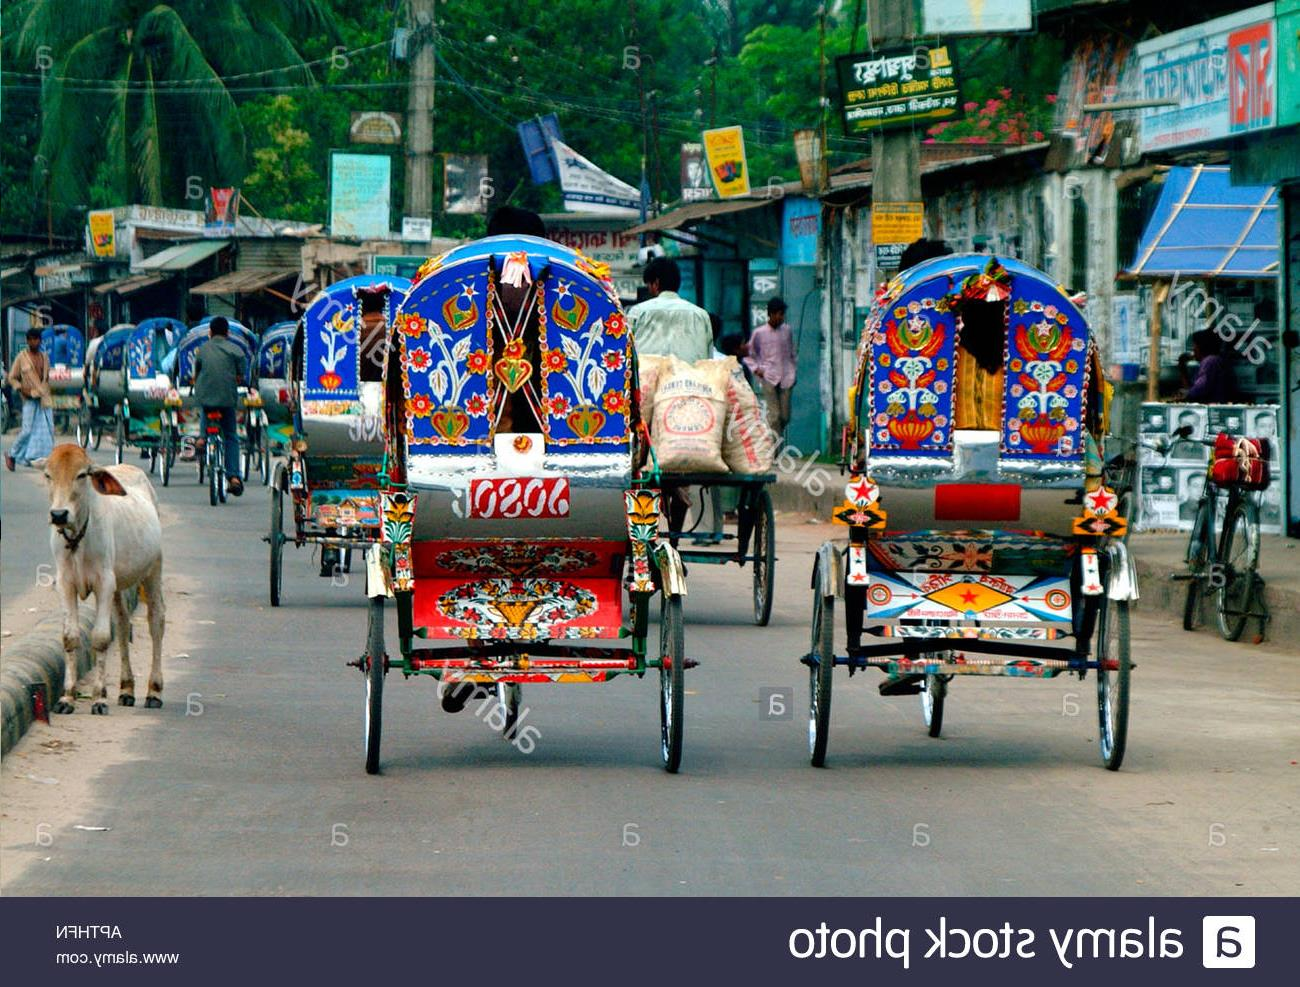Rickshaw: (356, 230, 687, 780), (824, 243, 1134, 776), (270, 258, 446, 670), (158, 295, 266, 531), (254, 309, 327, 498), (121, 298, 196, 474), (76, 301, 142, 471), (36, 312, 84, 459)
